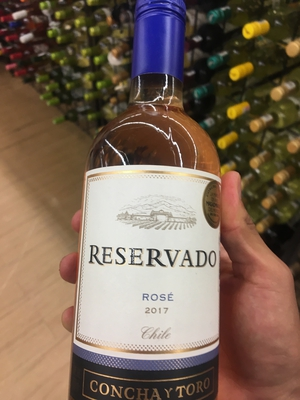reservado rose: (77, 21, 221, 399)
